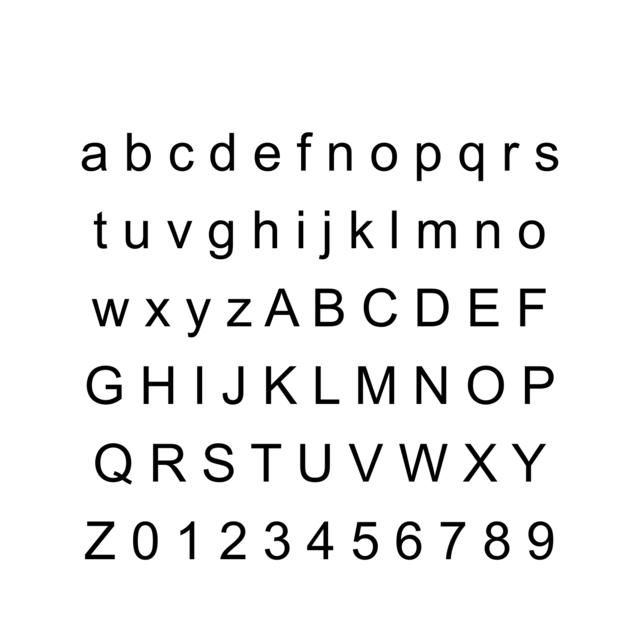alphabet: (468, 364, 507, 408), (362, 286, 399, 332), (93, 442, 132, 484), (354, 366, 394, 406), (399, 443, 438, 484), (86, 364, 124, 406), (264, 287, 300, 330), (346, 442, 383, 483), (462, 442, 498, 484), (152, 442, 188, 483), (511, 442, 547, 483), (413, 365, 447, 406), (416, 288, 450, 329), (248, 442, 280, 483), (203, 441, 234, 483), (522, 366, 554, 406), (470, 288, 500, 330), (142, 366, 173, 406), (526, 518, 554, 561), (315, 288, 344, 329), (396, 518, 423, 562), (418, 220, 457, 250), (91, 298, 130, 328), (220, 519, 247, 562), (439, 520, 467, 561), (419, 442, 447, 483), (352, 519, 379, 561), (484, 519, 509, 564), (132, 518, 158, 561), (208, 219, 234, 261), (184, 298, 210, 339), (209, 130, 234, 172), (416, 141, 441, 183), (306, 518, 331, 560), (220, 364, 245, 406), (127, 131, 152, 172), (459, 142, 483, 184), (255, 209, 280, 249), (351, 209, 374, 249), (518, 220, 546, 252), (168, 140, 196, 172), (255, 141, 283, 172), (82, 140, 109, 172), (371, 141, 398, 172), (226, 298, 253, 328), (144, 298, 170, 329), (167, 220, 193, 250), (476, 218, 501, 249), (533, 141, 558, 172), (329, 141, 354, 171), (124, 220, 149, 250), (178, 518, 195, 560), (298, 131, 314, 171), (93, 209, 109, 249), (505, 141, 522, 171), (390, 211, 400, 250)
